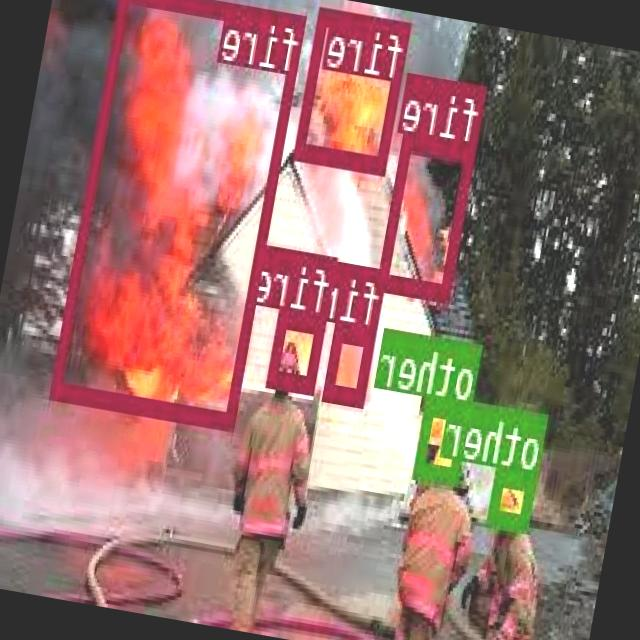fire: (51, 0, 308, 426), (297, 4, 414, 172), (380, 132, 478, 300), (270, 308, 328, 391), (324, 321, 378, 403)
